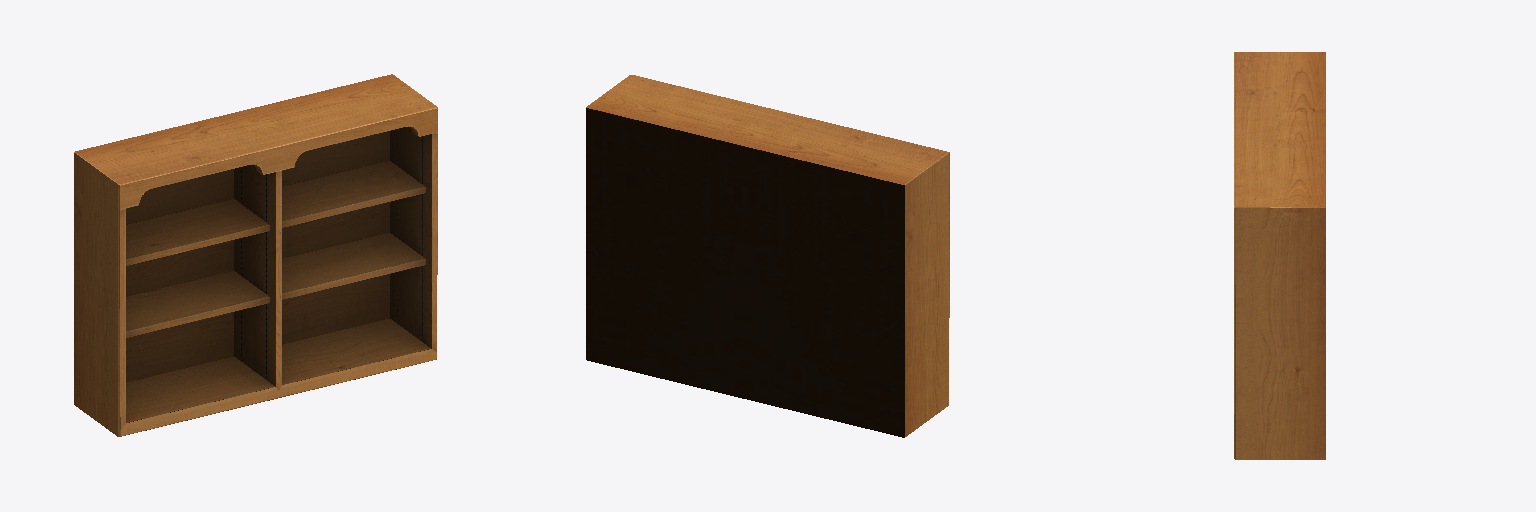
3 views of the same model, side by side, from view 1: azimuth 30°, elevation 25°; view 2: azimuth 150°, elevation 25°; view 3: azimuth 270°, elevation 25° (orthographic).
Visible parts, largest first — view 1: bookshelf_short; view 2: bookshelf_short; view 3: bookshelf_short.
Boxes of the visible parts, box(x1,y1,x2,y2) form: bookshelf_short: box(74, 74, 437, 436); bookshelf_short: box(586, 75, 949, 437); bookshelf_short: box(1234, 52, 1325, 459).
Bounding box in the file's own units: 0.0503 × 0.0381 × 0.0125.
Materials: 1 (1 with a texture image).